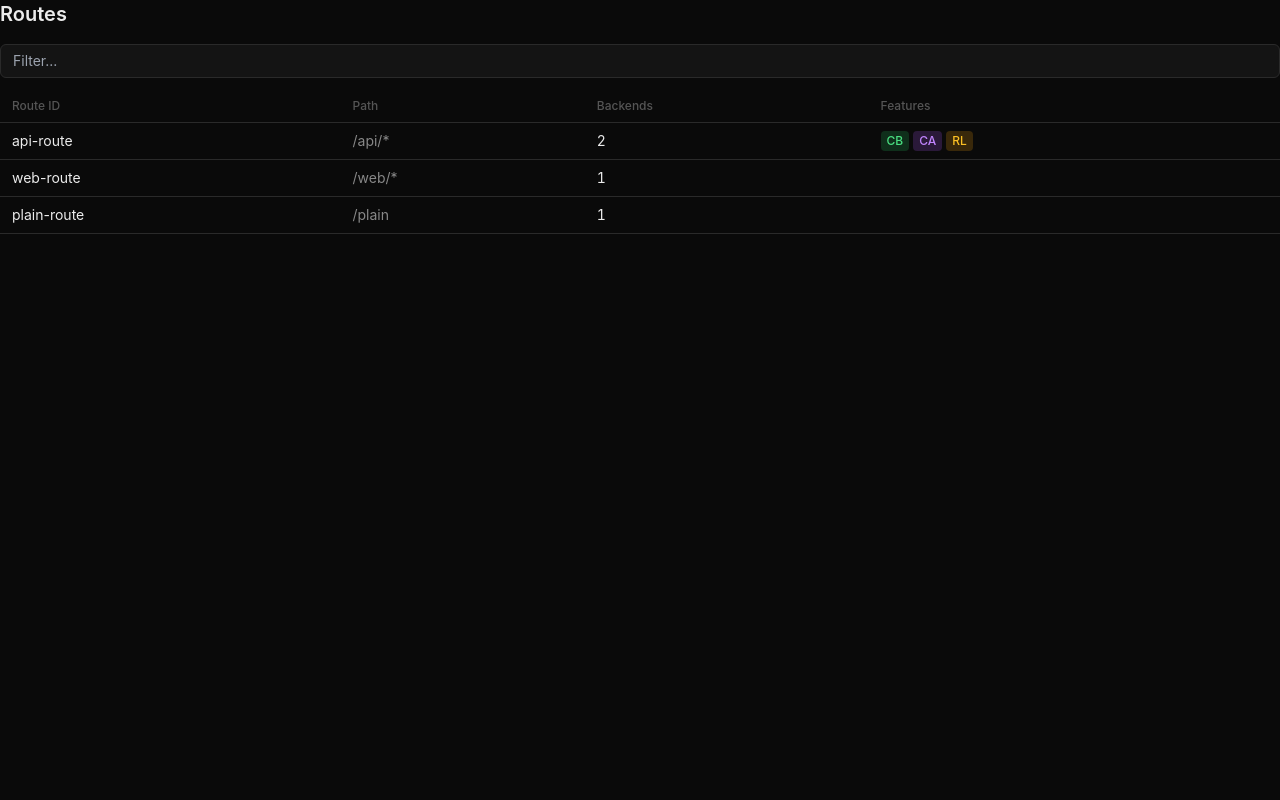
Scenario: RoutesPage › CB force-open shows ConfirmModal
Click the text "api-route".
click(42, 140)  # box [0,122,340,160]
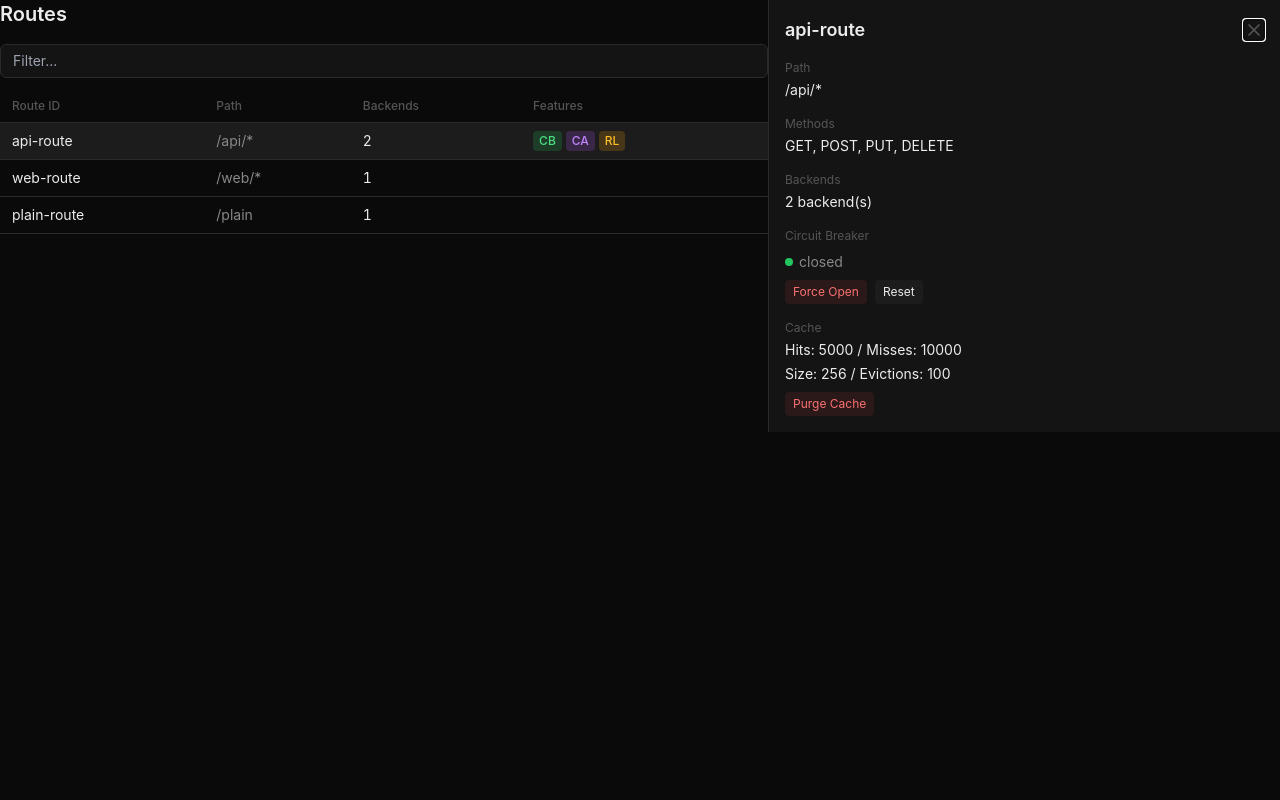
Expected: the button "Force Open" is shown
Click the button "Force Open".
click(826, 292)  # box [785,280,867,304]
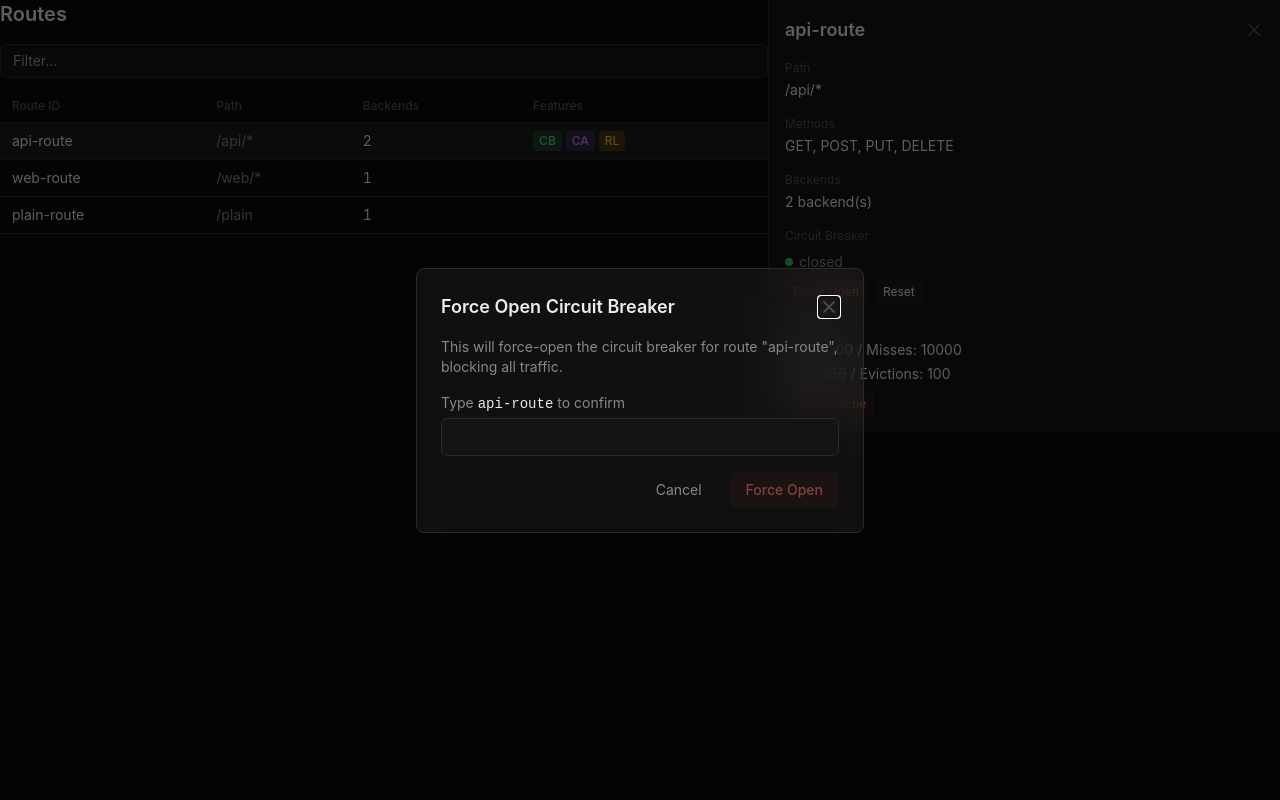
Expected: the dialog is shown, [416,268,864,532]
Expected: the heading "Force Open Circuit Breaker" is shown, [441,292,675,320]
